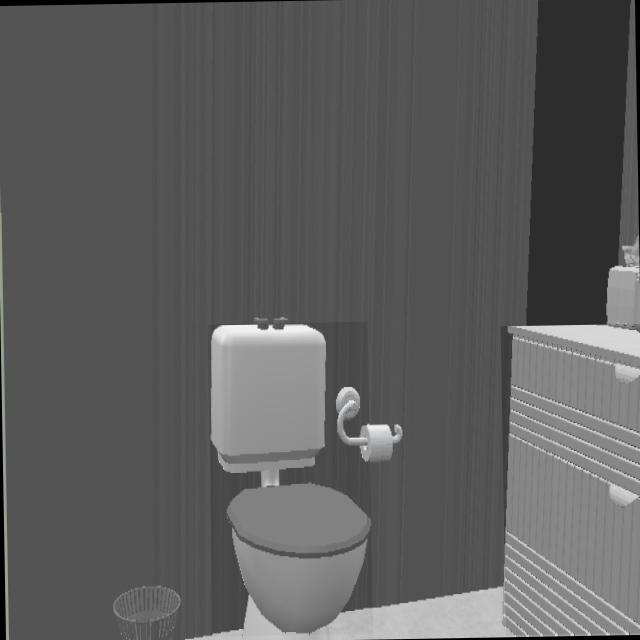cabinet: (504, 324, 640, 636)
toilet: (209, 323, 371, 634)
